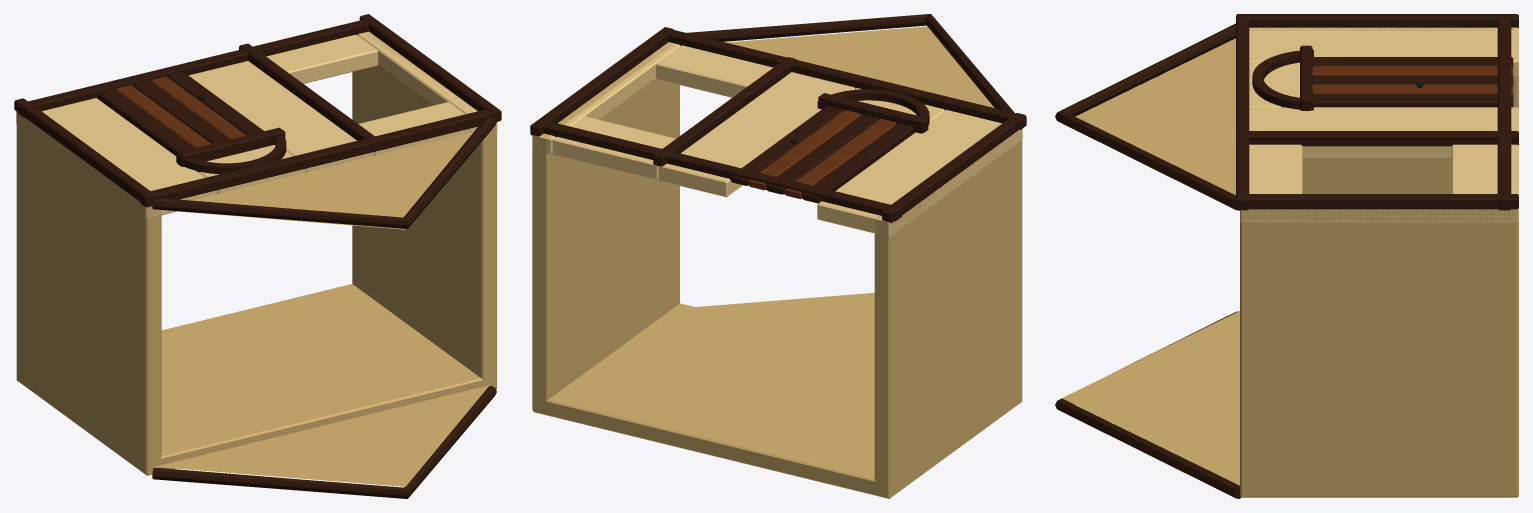
File: CottageWall.obj
3 views of the same model, side by side, from view 1: azimuth 30°, elevation 25°; view 2: azimuth 150°, elevation 25°; view 3: azimuth 270°, elevation 25° (orthographic). The views are drawn at different scales.
Visible parts, largest first — view 1: CottageWall; view 2: CottageWall; view 3: CottageWall.
Part boxes in pixels (<box>): CottageWall: <box>14,14,501,498</box>; CottageWall: <box>530,14,1026,498</box>; CottageWall: <box>1055,14,1518,498</box>.
Bounding box in the file's own units: 450 × 350 × 475.
